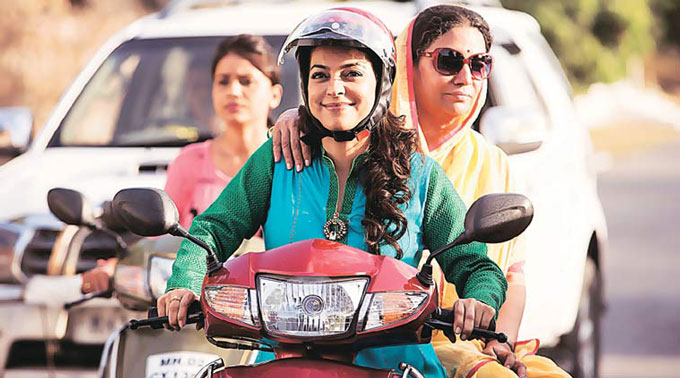with_helmet: (269, 8, 397, 128)
